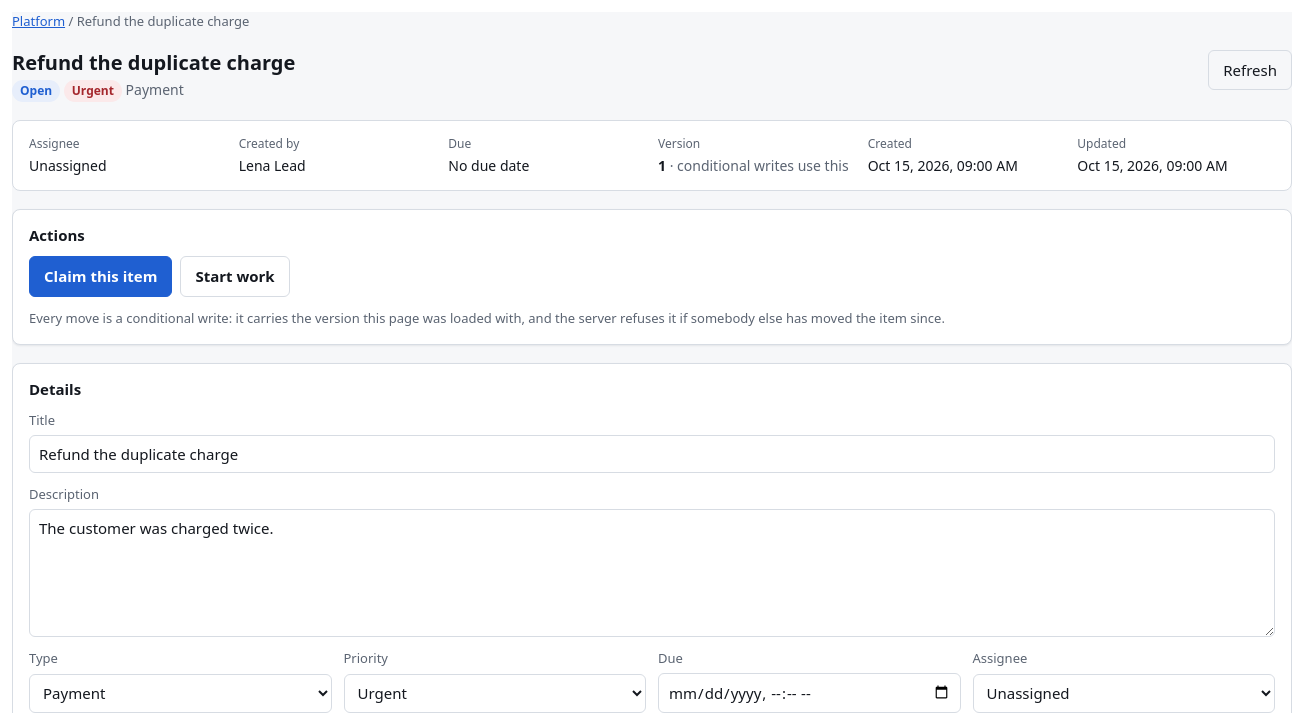
it: ItemDetailPage › explains a lost claim race and shows the winner
This screenshot has width=1304, height=713.
Click the button "Claim this item" at (101, 277), box [29,256,172,297]
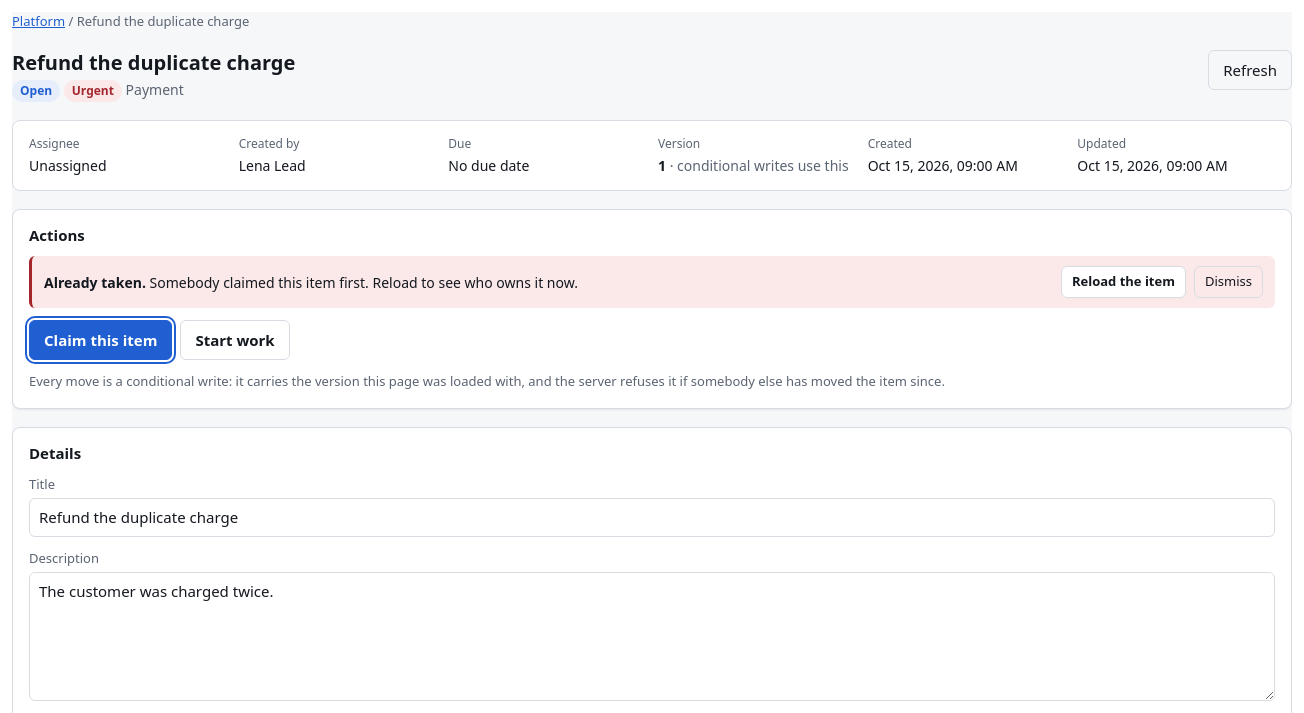
Check: the message shows "Already taken", box [44,272,142,292]
Check: the message shows "Somebody claimed this item first", box [150,272,578,292]
